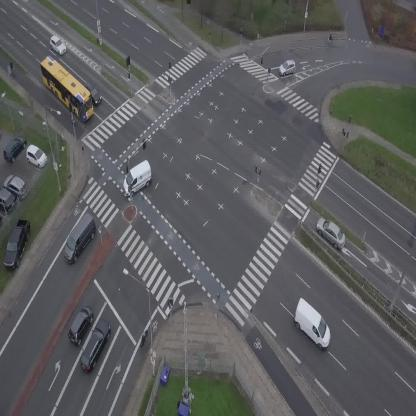bicycle: (137, 328, 150, 348), (324, 33, 337, 46), (7, 60, 17, 76)
bus: (32, 53, 103, 123)
car: (75, 317, 116, 375), (310, 213, 351, 252), (63, 303, 98, 348), (83, 80, 104, 106), (46, 34, 68, 57), (277, 58, 298, 77)
lorry: (284, 296, 340, 352), (55, 210, 105, 266), (116, 159, 159, 199)
